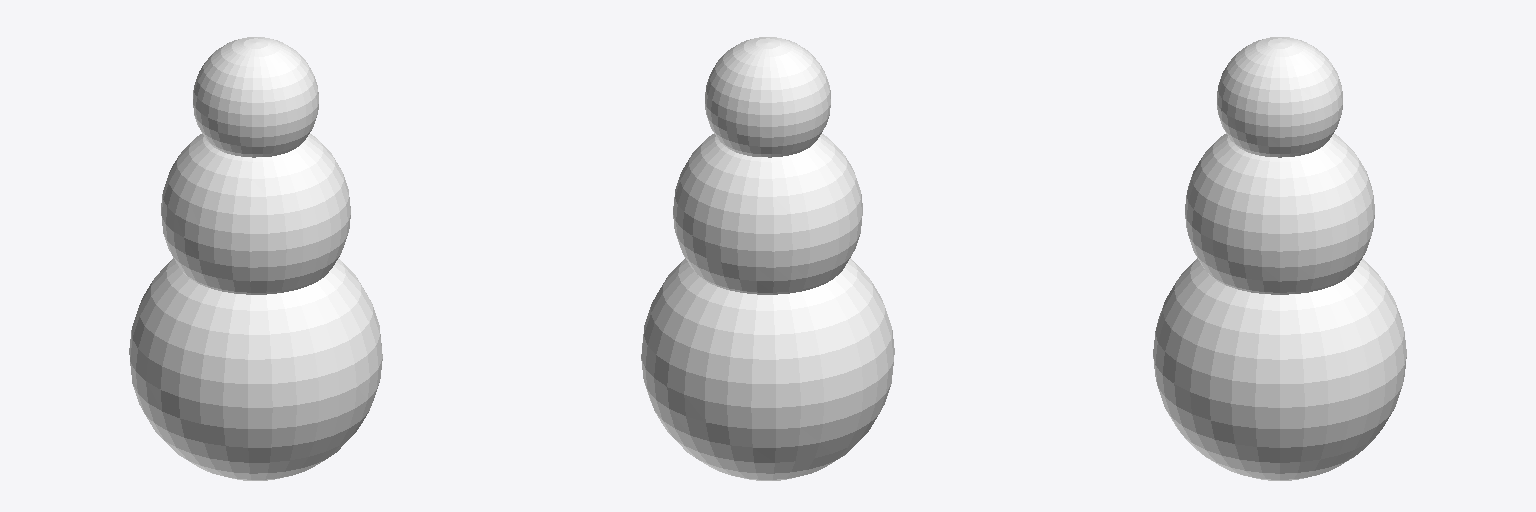
Rendered from frosty_body.obj.
3 views of the same model, side by side, from view 1: azimuth 30°, elevation 25°; view 2: azimuth 150°, elevation 25°; view 3: azimuth 270°, elevation 25° (orthographic).
Parts seen in each view (by area): view 1: Sphere001, Sphere002, Sphere003; view 2: Sphere001, Sphere002, Sphere003; view 3: Sphere001, Sphere002, Sphere003.
Part boxes in pixels (x1,y1,x2,y2): Sphere001: (129, 258, 382, 480); Sphere002: (161, 134, 350, 294); Sphere003: (193, 37, 318, 157); Sphere001: (641, 258, 894, 480); Sphere002: (673, 134, 862, 294); Sphere003: (705, 37, 830, 157); Sphere001: (1153, 258, 1406, 480); Sphere002: (1185, 134, 1374, 294); Sphere003: (1217, 37, 1342, 157).
Size of the model in its own units: 2 by 3.71 by 2.